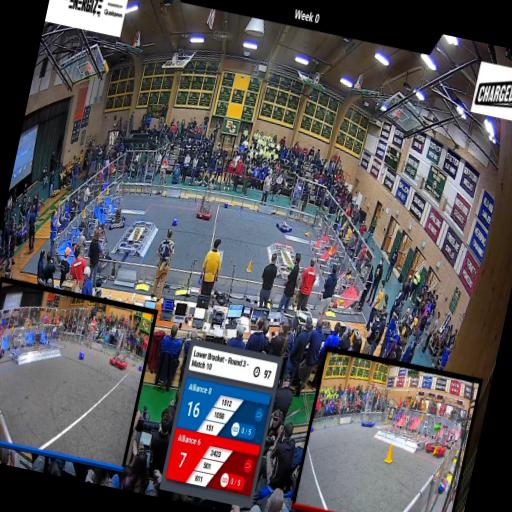robot: (279, 257, 310, 300), (88, 232, 116, 278), (314, 269, 344, 310), (106, 192, 131, 234), (192, 184, 218, 224), (273, 213, 294, 237)
